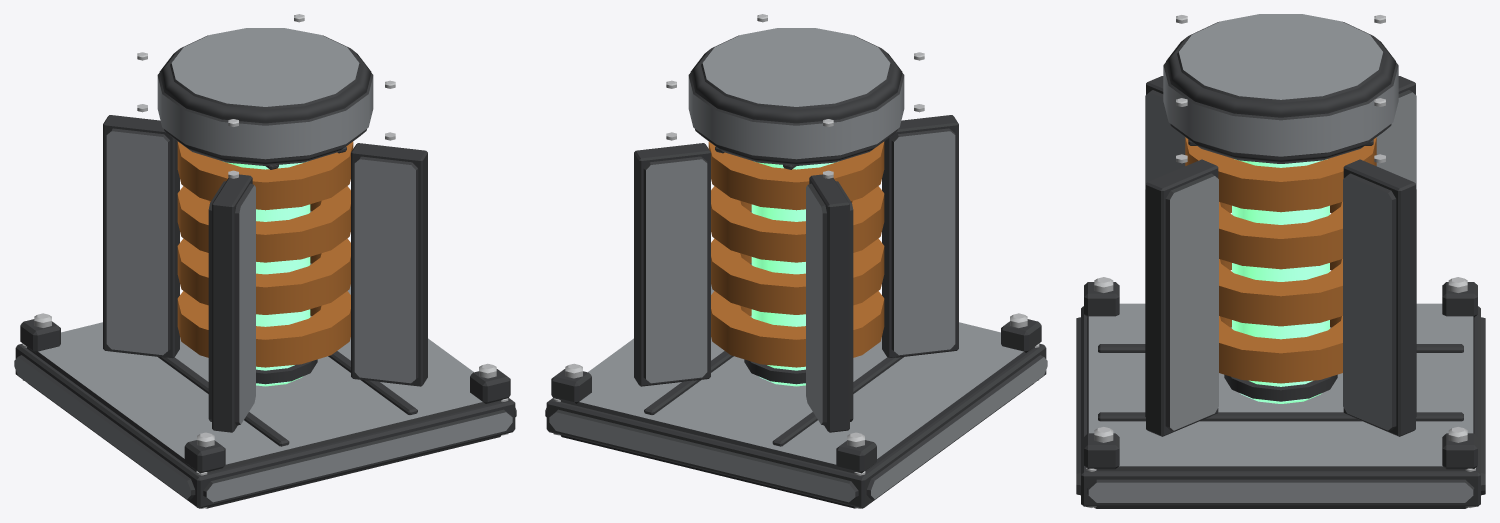
Rendered from R4X_EnergyRegenerator.fbx.
3 renders of one model, left to right at view 1: azimuth 30°, elevation 25°; view 2: azimuth 150°, elevation 25°; view 3: azimuth 270°, elevation 25°, orthographic. The views are drawn at different scales.
Parts seen in each view (by area): view 1: R4X_EnergyRegenerator_Body; view 2: R4X_EnergyRegenerator_Body; view 3: R4X_EnergyRegenerator_Body.
Part boxes in pixels (x1=…): R4X_EnergyRegenerator_Body: x1=14, y1=14, x2=516, y2=508; R4X_EnergyRegenerator_Body: x1=545, y1=14, x2=1047, y2=508; R4X_EnergyRegenerator_Body: x1=1076, y1=14, x2=1485, y2=508.
Size of the model in its own units: 0.52 by 0.52 by 0.52.
